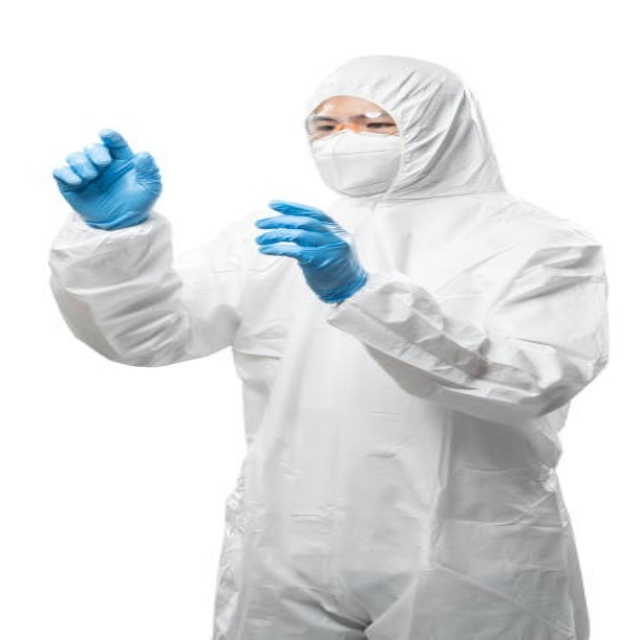Gafas: (306, 112, 396, 137)
Guantes: (252, 198, 368, 305), (54, 127, 163, 231)
Mascara: (308, 130, 406, 196)
